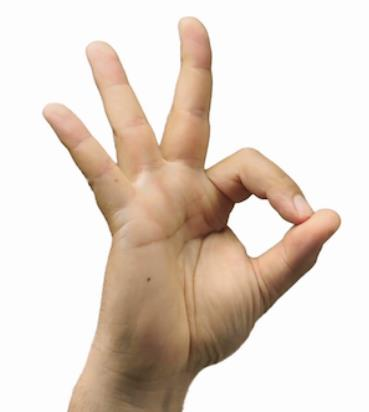left: (41, 13, 341, 376)
